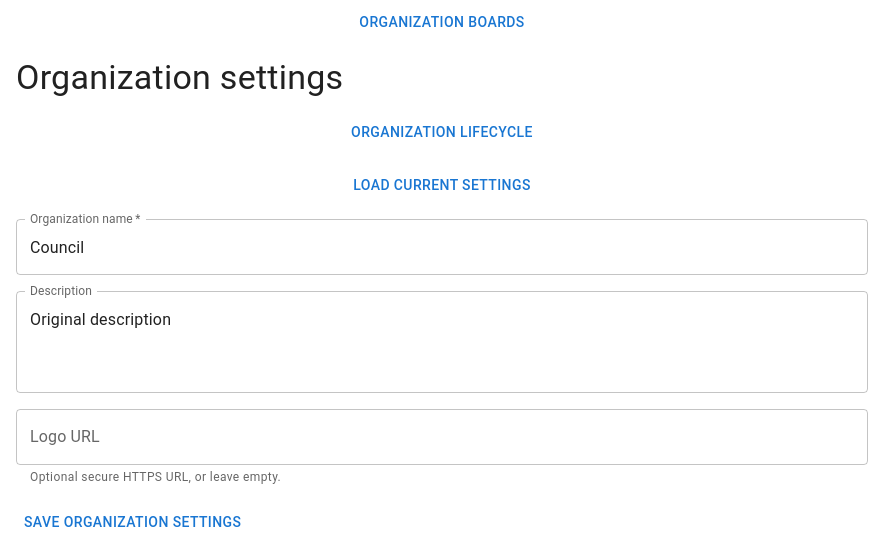
Test: PRD-03-TC-01/05/06/08 Organization metadata administration › clears private draft on a definite pre-save profile refusal (403)
The width and height of the screenshot is (885, 557).
Expected: the field labelled "Organization name *" is shown, [16,220,868,276]
Click the button "Save Organization settings" at (133,523), box [16,504,249,541]
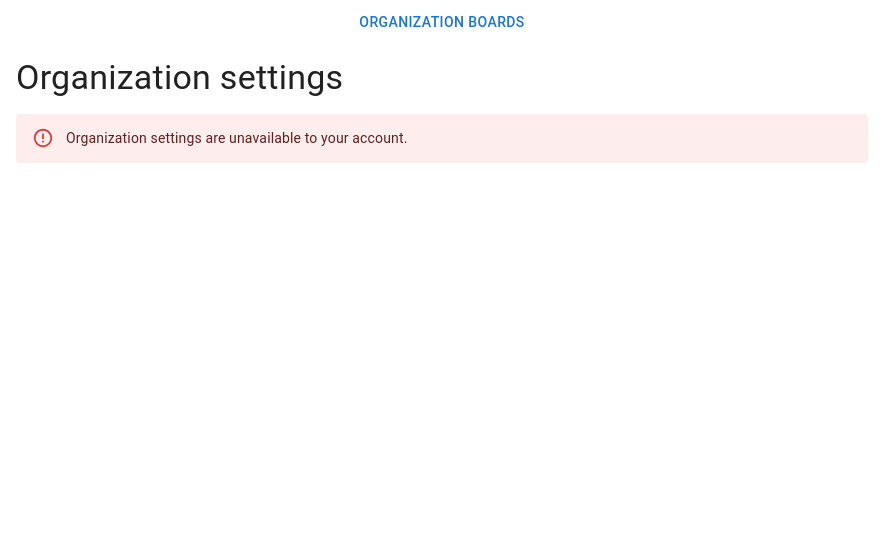
Result: the text "Organization settings are unavailable to your account." is shown at [66,130,408,146]
Result: the label labelled "Organization name" is gone
